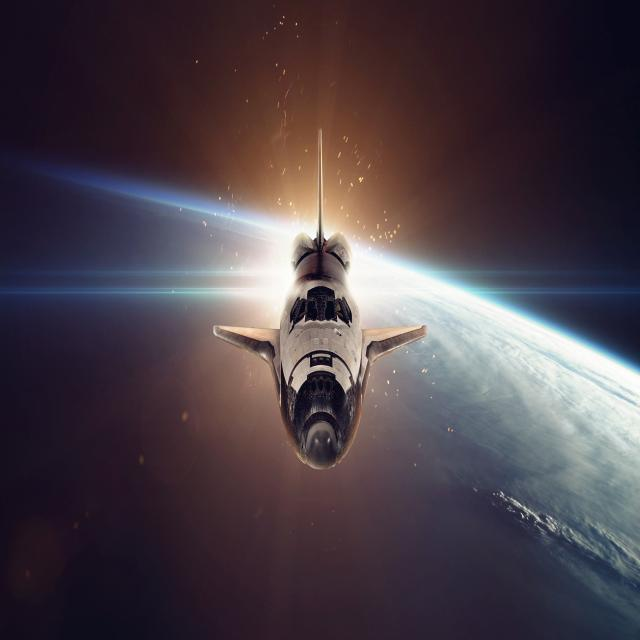rocket: (194, 119, 430, 467)
